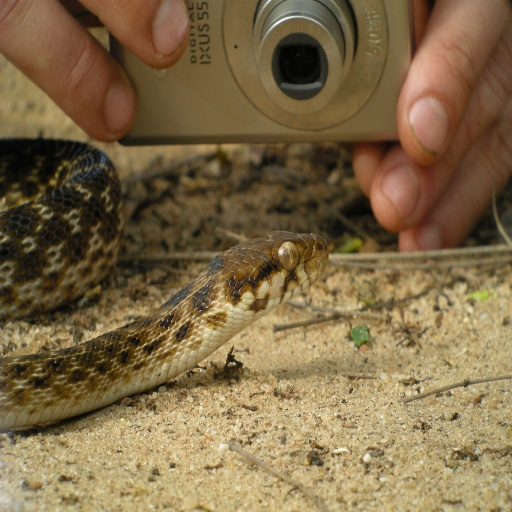hand: (326, 31, 509, 243), (0, 0, 191, 143)
